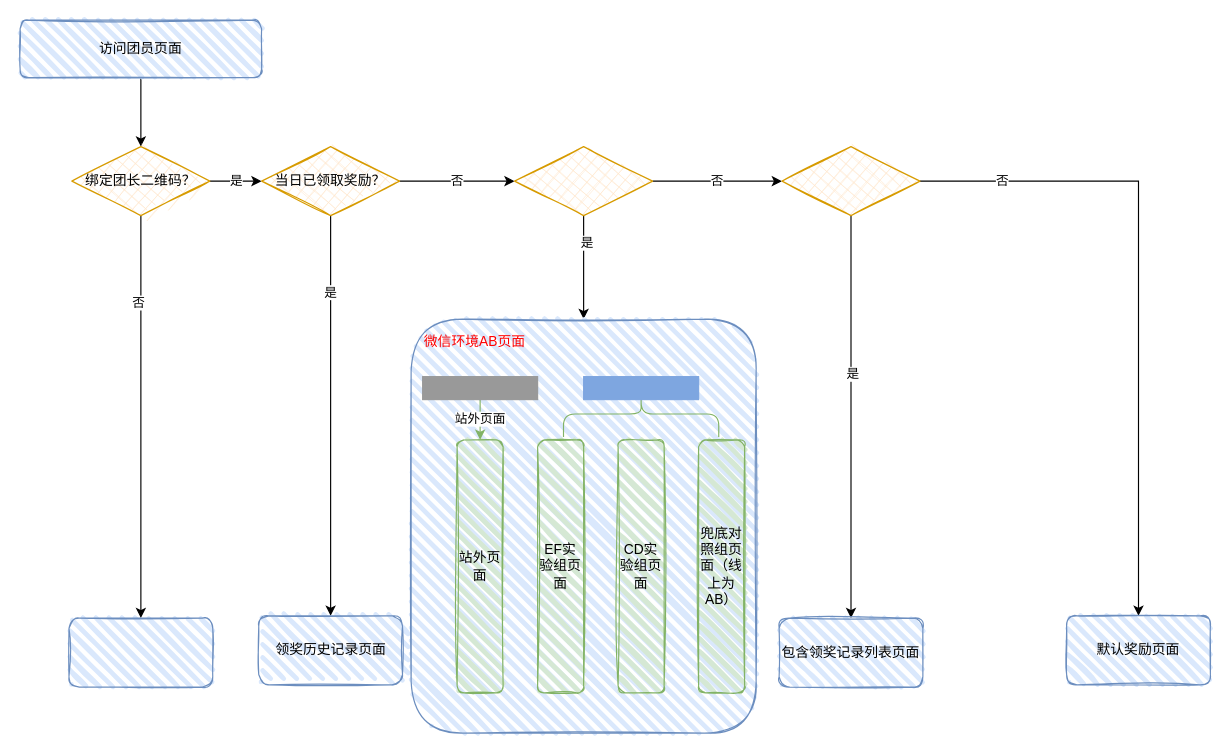
This 1231x753 diagram has some shape labels left out. Each missing label, with the box of its shape:
兜底展示无法打开页面: (68, 617, 213, 687)
微信激活新用户: (421, 375, 538, 400)
微信环境||微信小程序环境？: (513, 145, 653, 216)
新用户 && 买菜列表有值？: (781, 145, 920, 216)
站内页面AB实验: (582, 375, 699, 400)
